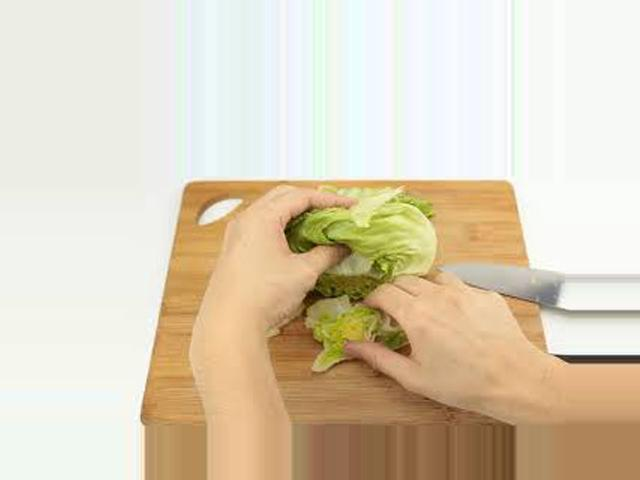lettuce: (294, 190, 438, 288)
